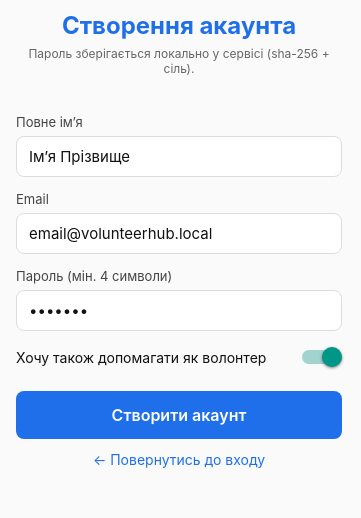
Scenario: Phase 6 — RegisterScreen › REG3: duplicate email surfaces a localized error
Expected: the element with test id "register-submit" is shown, [16,391,342,439]
Type "Дублікат" into the field with test id "register-full-name".
click(179, 156); type("Дублікат")  # box [16,136,342,177]
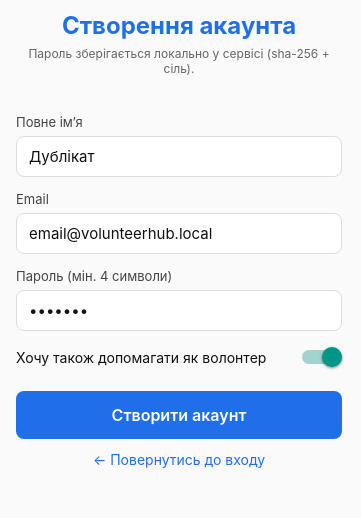
Type "demo@volunteerhub.local" into the field with test id "register-email".
click(179, 234); type("demo@volunteerhub.local")  # box [16,213,342,254]
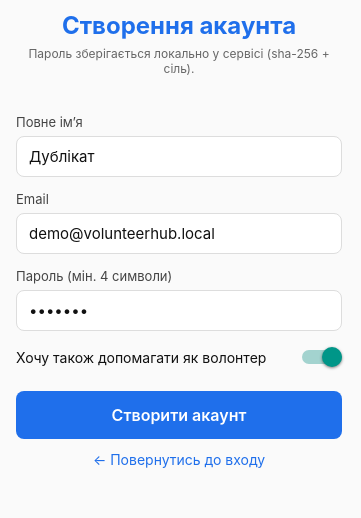
Type "demo1234" into the password field with test id "register-password".
click(179, 310); type("demo1234")  # box [16,290,342,331]
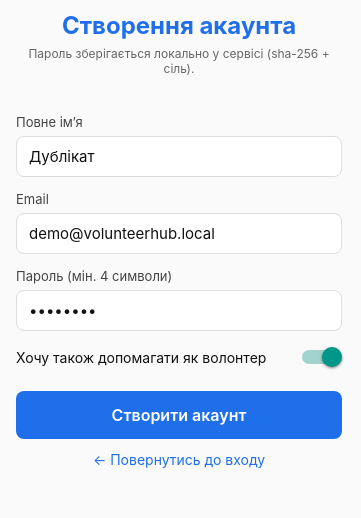
Click the element with test id "register-submit".
click(179, 415)  # box [16,391,342,439]
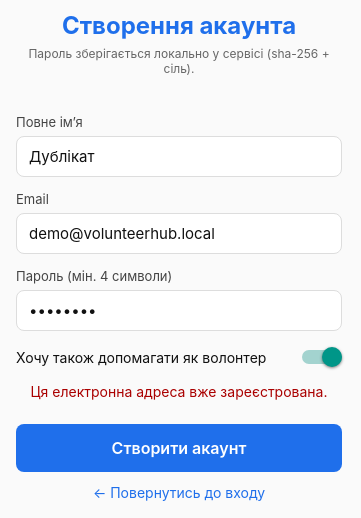
Now the text "Ця електронна адреса вже зареєстрована." is shown, box [16,383,342,400]
Now the text with test id "register-error" shows "вже зареєстрована", box [30,383,328,400]
